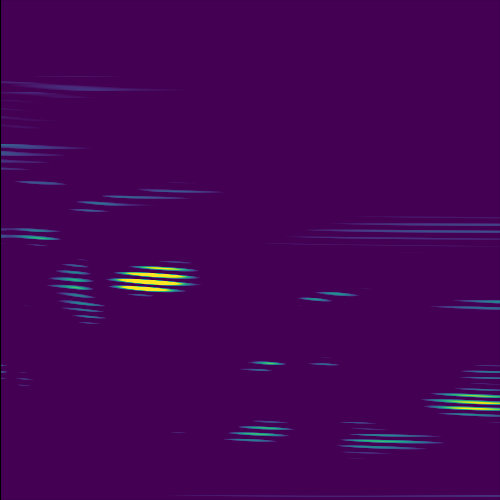semblance: (105, 263, 206, 296), (421, 385, 500, 422)
